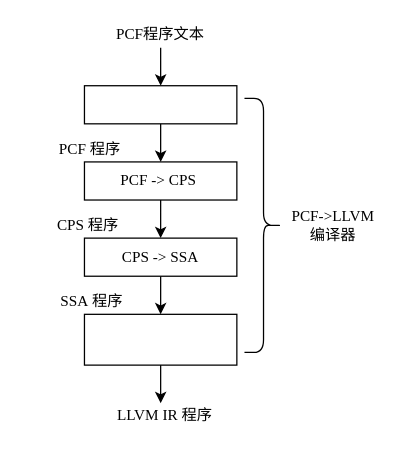
The diagram is 406 pixels wide and 450 high, and some of its shapes have lost their labels. The centre of each missing label's shape, as x and y in pixels:
"PCF语法分析器" goes at (x=160, y=104).
"SSA -> Vellvm 抽象语法树" goes at (x=160, y=339).
